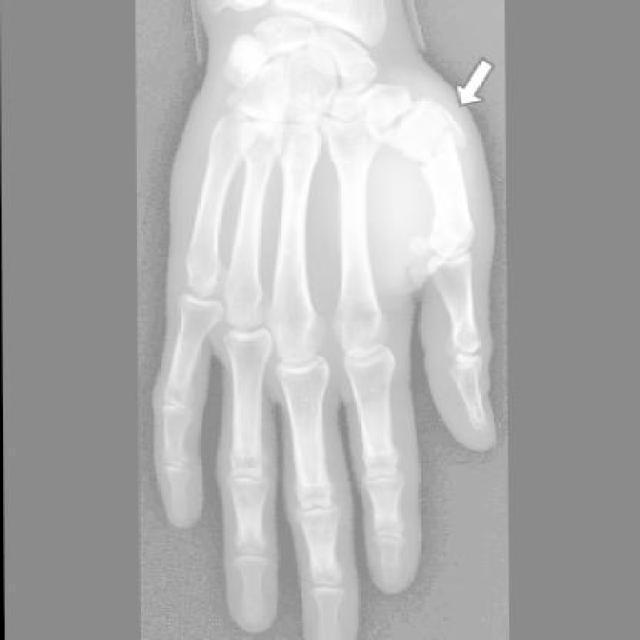Fracture: (379, 97, 472, 171)
